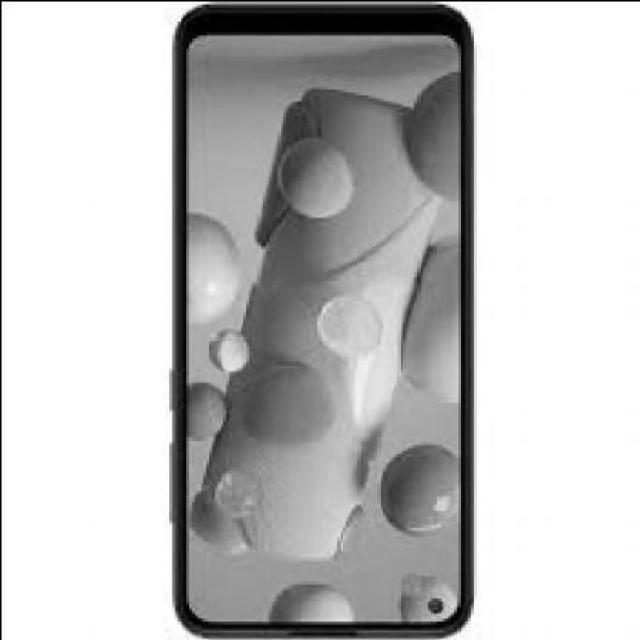fake: (171, 3, 472, 637)
